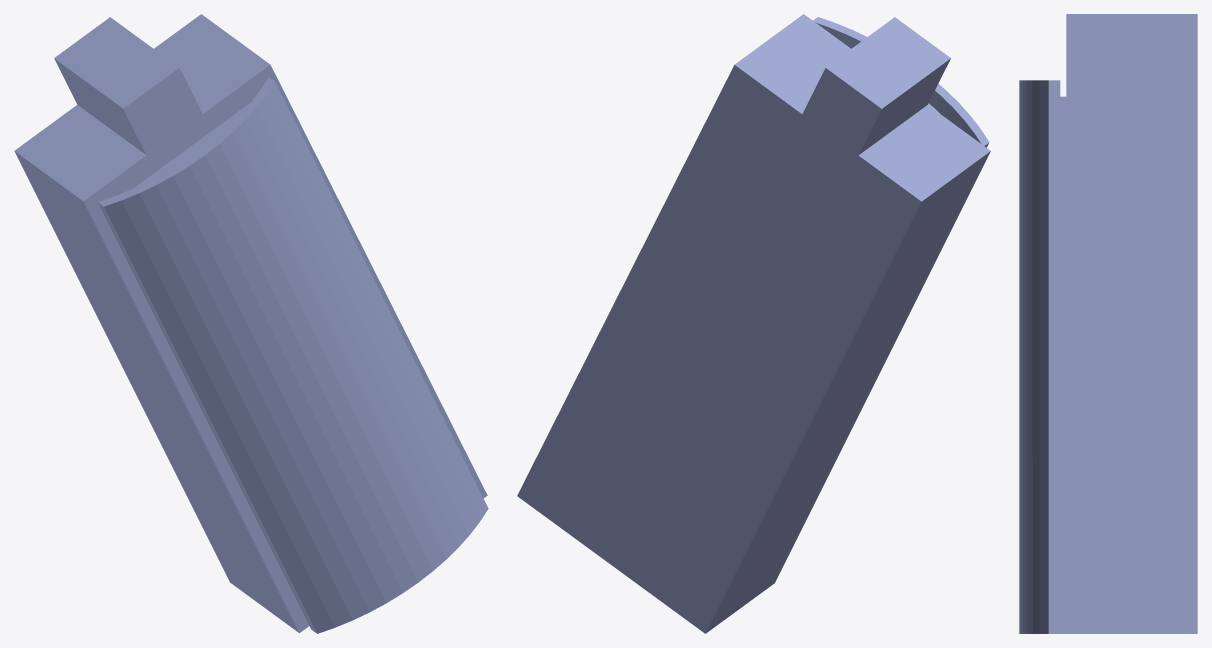
The picture shows the model from 3 angles, left to right: view 1: azimuth 30°, elevation 25°; view 2: azimuth 150°, elevation 25°; view 3: azimuth 270°, elevation 25°; orthographic projection. The views are drawn at different scales.
Parts seen in each view (by area): view 1: E2; view 2: E2; view 3: E2.
Boxes of the visible parts, x1,y1,x2,y2 form: E2: [14, 14, 488, 633]; E2: [517, 14, 990, 633]; E2: [1019, 14, 1197, 633].
Size of the model in its own units: 37.79 by 53.15 by 15.24.
